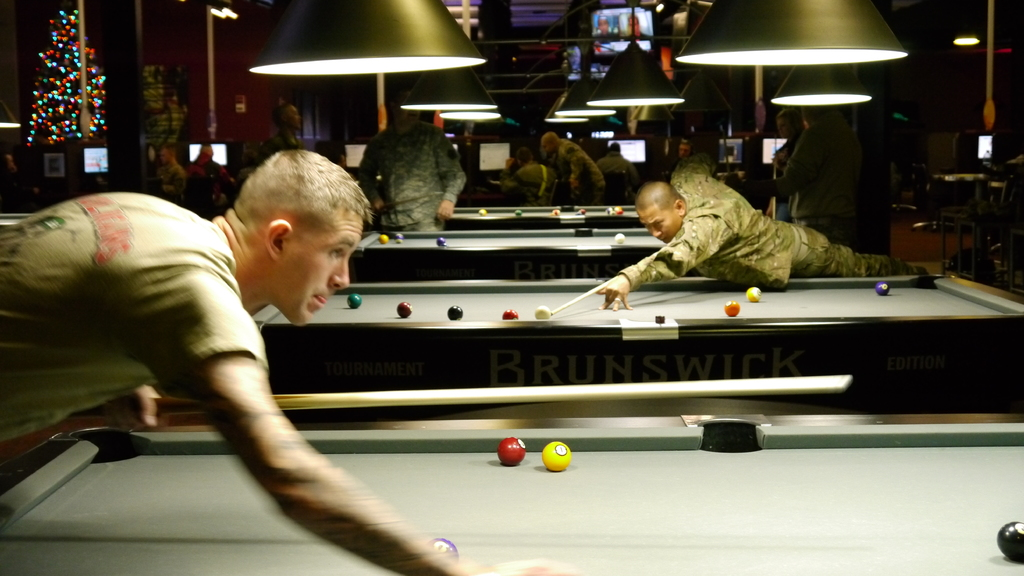Ball: (995, 525, 1023, 566), (540, 440, 571, 472), (497, 438, 527, 467), (431, 536, 458, 559), (726, 300, 742, 318), (396, 301, 413, 316), (534, 307, 547, 321), (502, 309, 518, 319), (347, 296, 360, 308), (451, 309, 463, 321), (876, 283, 887, 296), (436, 237, 447, 249), (748, 289, 758, 301), (613, 234, 625, 243), (512, 205, 521, 216), (614, 205, 623, 216), (396, 230, 403, 242), (548, 211, 561, 216), (478, 207, 486, 214), (580, 208, 587, 216), (381, 237, 387, 244)
